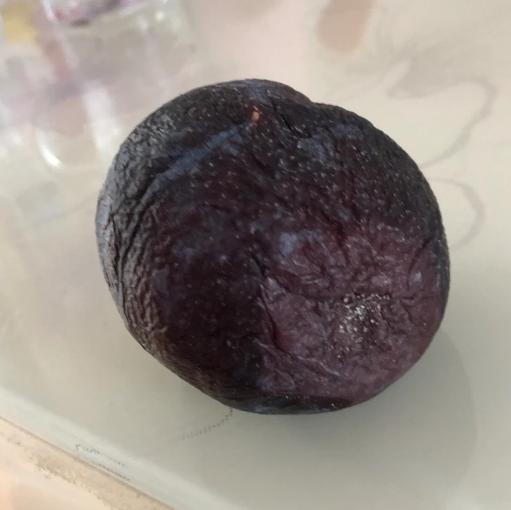plum_C: (93, 79, 450, 415)
